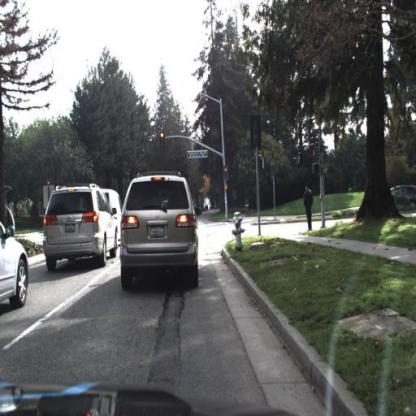car: (118, 171, 204, 298), (43, 183, 118, 272), (102, 189, 125, 245), (387, 180, 416, 217)
pedestrian: (303, 183, 315, 229)
trafficLight-Red: (47, 179, 55, 197), (159, 131, 166, 149), (223, 166, 230, 182), (46, 179, 51, 190)
